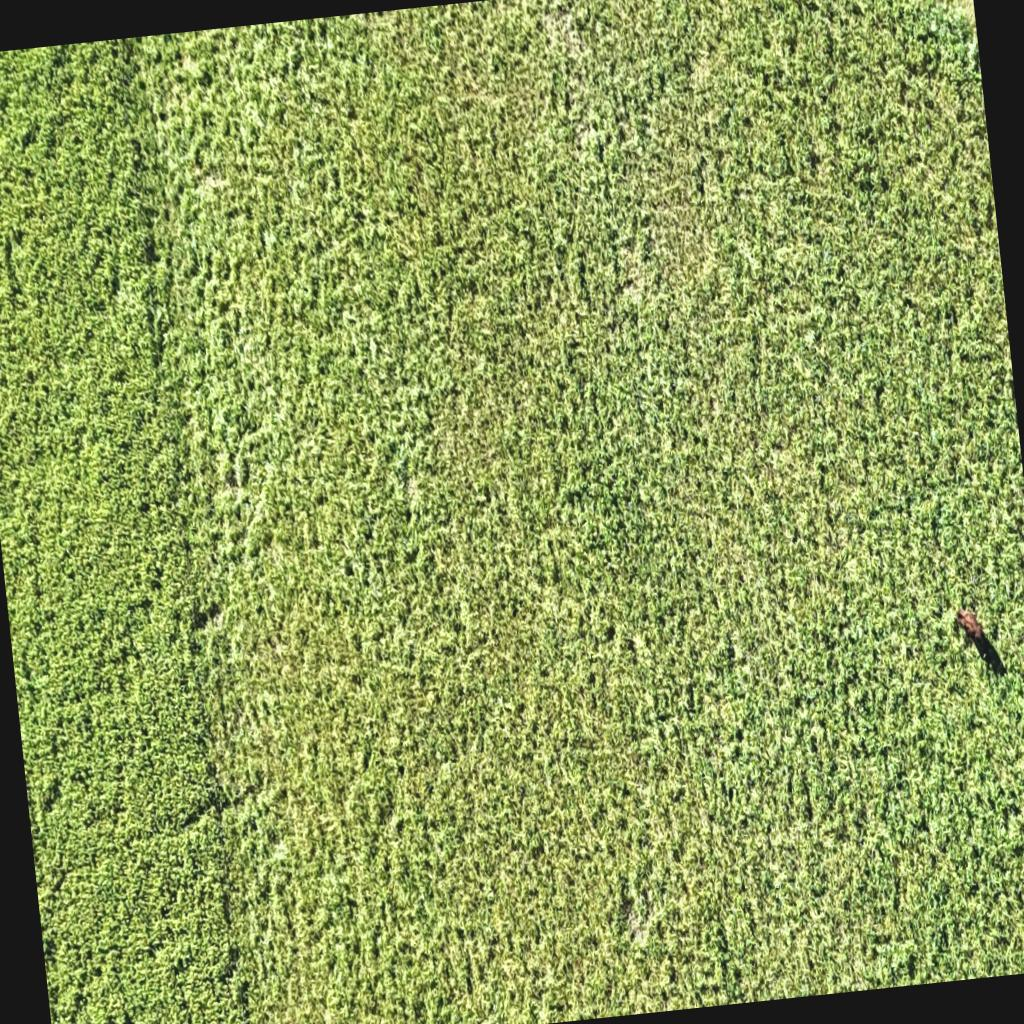cow: (955, 606, 984, 643)
